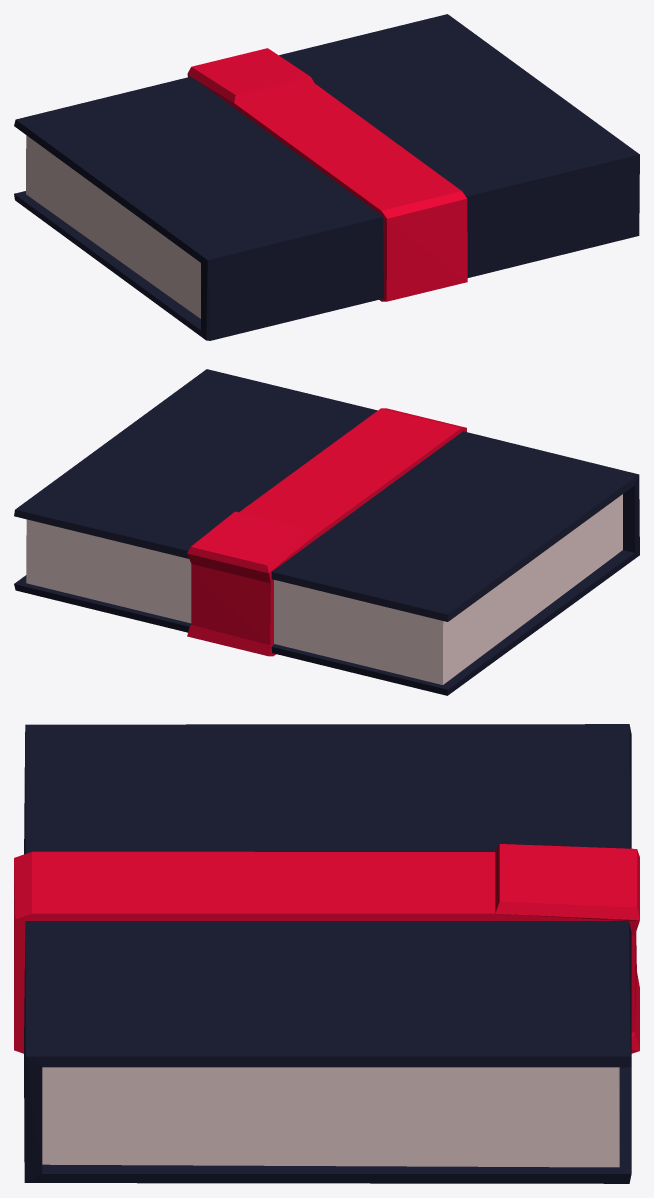
File: c_book.glb
The picture shows the model from 3 angles, top to bottom: view 1: azimuth 30°, elevation 25°; view 2: azimuth 150°, elevation 25°; view 3: azimuth 270°, elevation 25°; orthographic projection. The views are drawn at different scales.
Visible parts, largest first — view 1: C_Book; view 2: C_Book; view 3: C_Book.
Part boxes in pixels (x1,y1,x2,y2): C_Book: (14, 14, 639, 340); C_Book: (14, 369, 639, 695); C_Book: (14, 724, 639, 1183).
Bounding box in the file's own units: 0.3859 × 0.0825 × 0.3061.
Materials: 1 (1 with a texture image).
